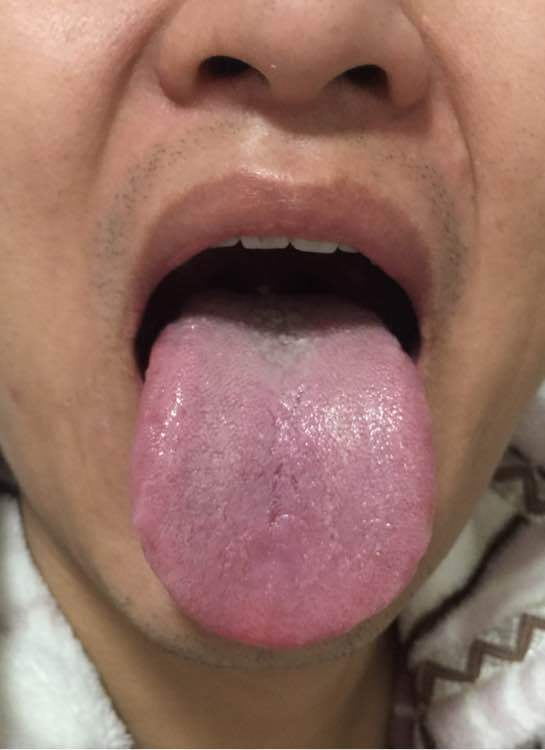hongshe: (129, 287, 436, 648)
